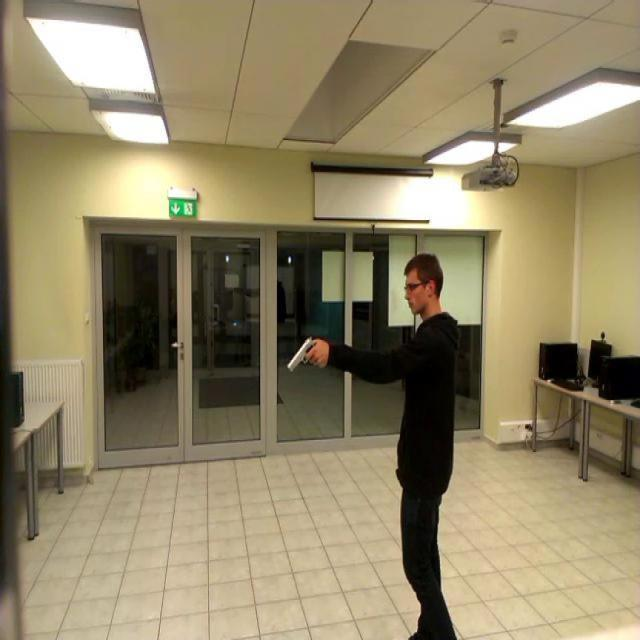pistol: (289, 334, 321, 371)
